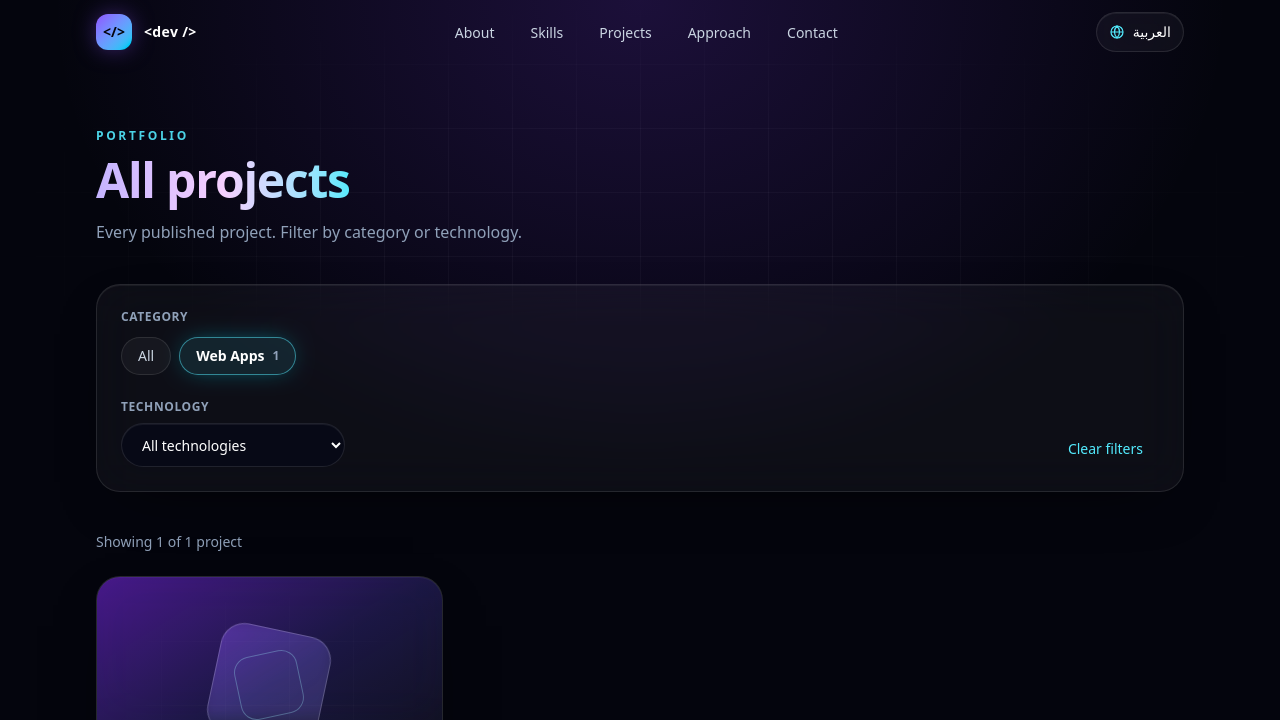
Projects page — filters › filters by technology with the selector and clears all filters
Select "Laravel" in the dropdown labelled "Technology" at (233, 445), box [121, 423, 345, 467]
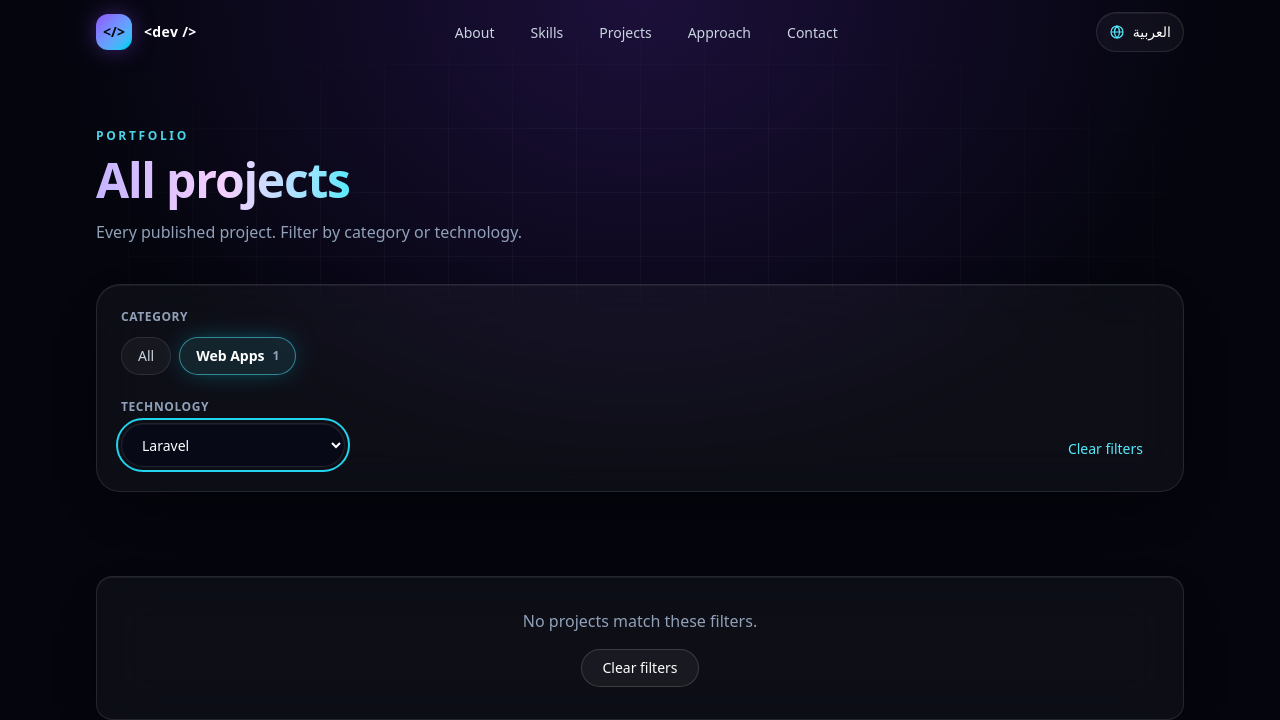
Now the text "No projects match these filters." is shown, box [523, 609, 757, 633]
Click the 1st link "Clear filters" at (1105, 448), box [1068, 439, 1143, 458]
(page scrolled)
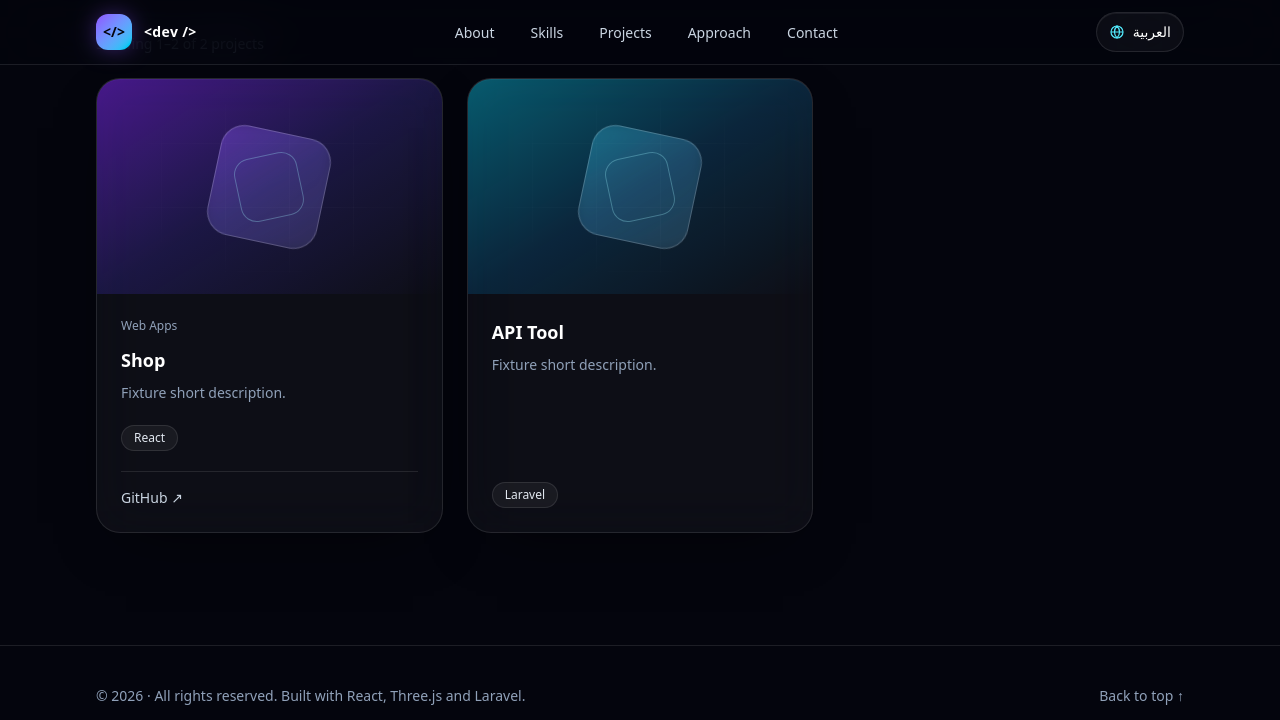
Now the link "Shop" is shown, box [121, 348, 165, 372]
